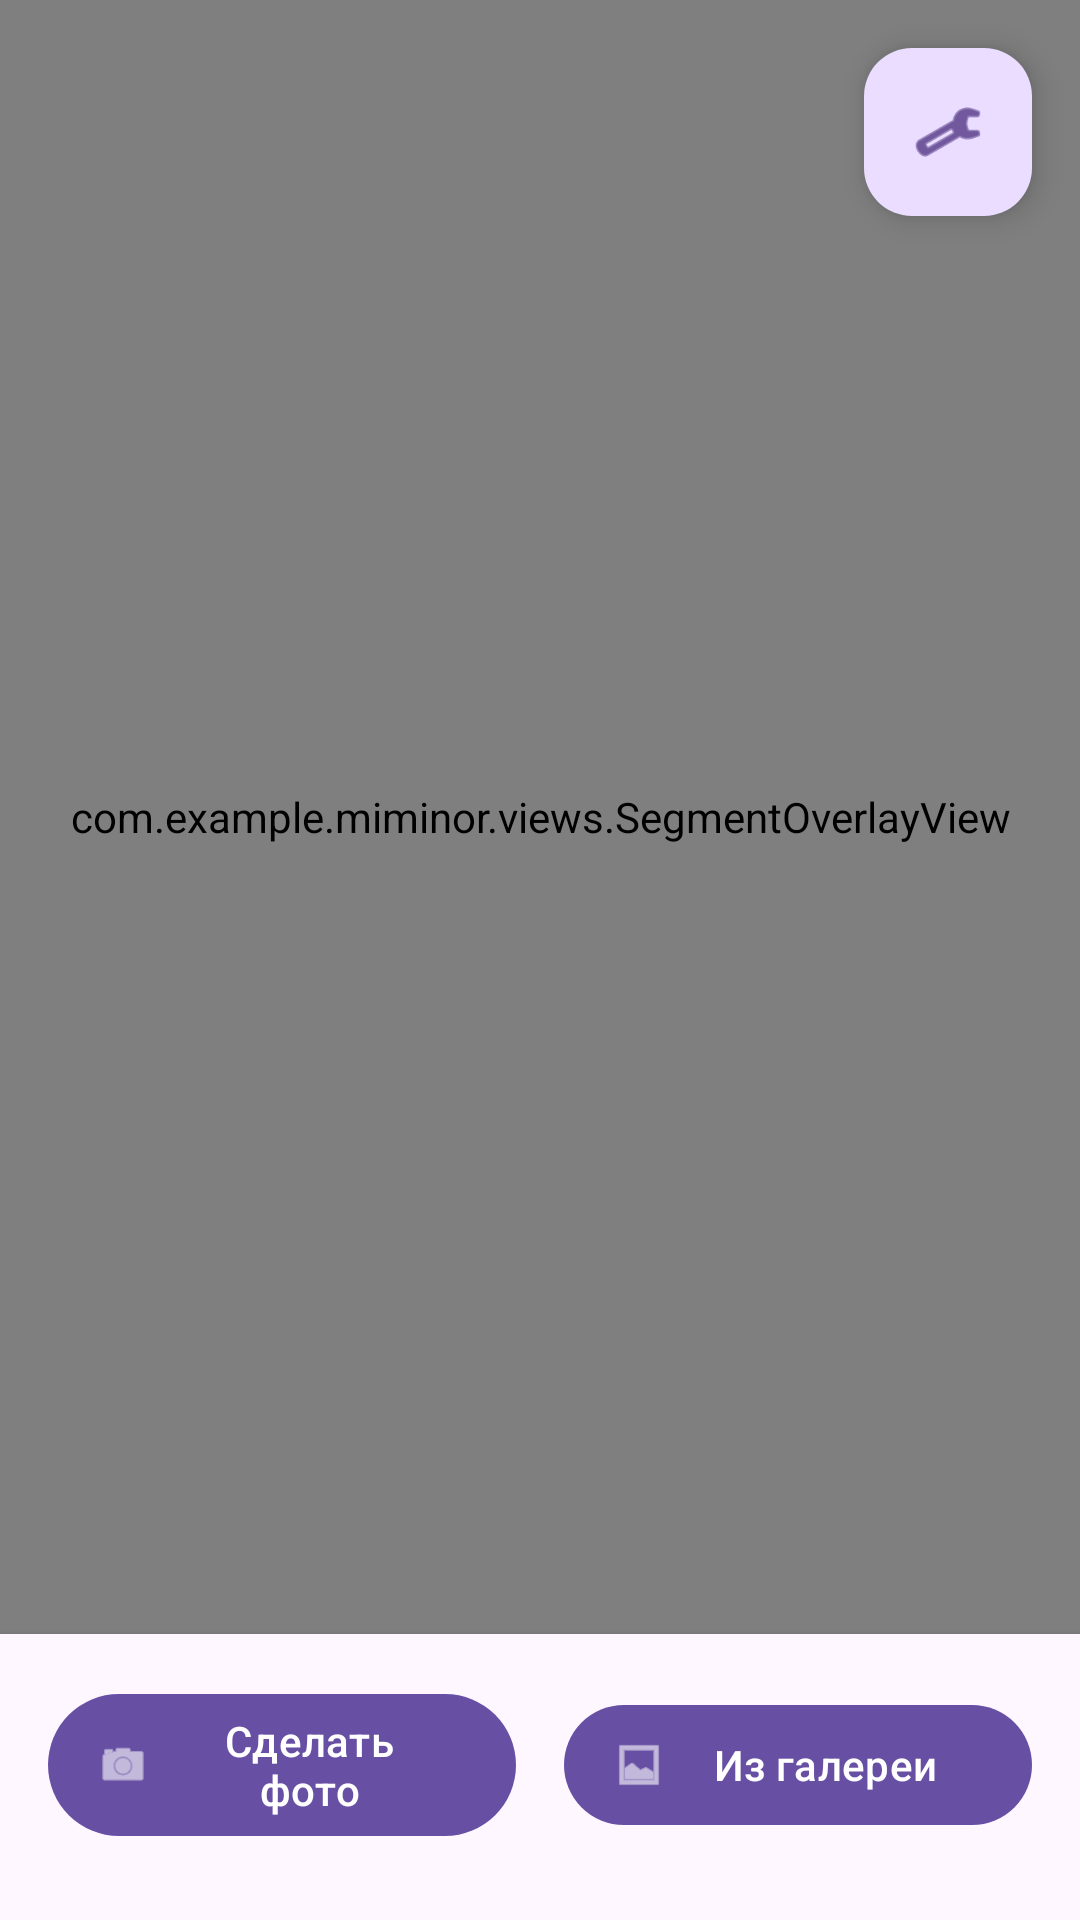

Screen size 1080px x 1920px. Icon name, then its center in pixels as (x,y):
Настройки: (948,132)
